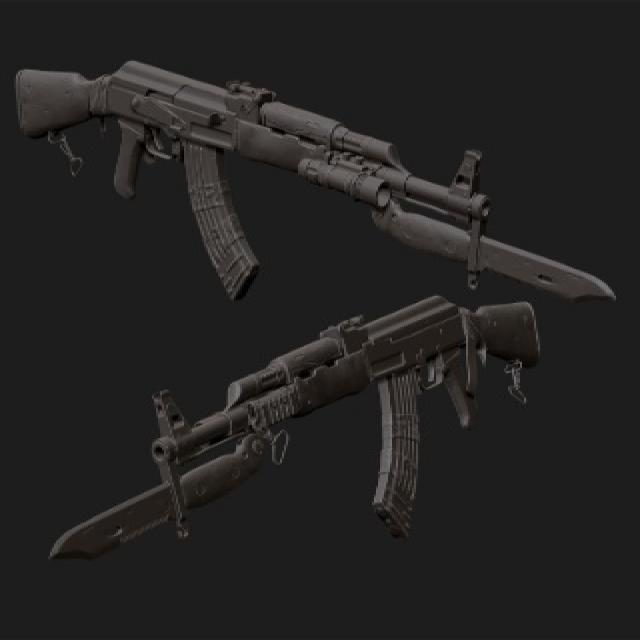weapon: (6, 49, 620, 300), (42, 293, 544, 569)
